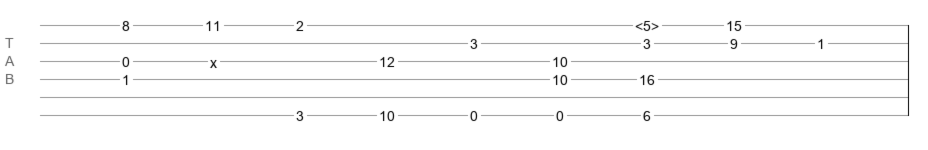0: (122, 54, 130, 64), (470, 108, 478, 118), (556, 108, 564, 118)
1: (122, 72, 130, 82), (817, 36, 825, 46)
10: (379, 108, 395, 118), (552, 72, 568, 82), (552, 54, 568, 64)
11: (205, 18, 221, 28)
12: (379, 54, 395, 64)
15: (726, 18, 742, 28)
16: (639, 72, 655, 82)
2: (296, 18, 304, 28)
3: (296, 108, 304, 118), (470, 36, 478, 46), (643, 36, 651, 46)
6: (643, 108, 651, 118)
8: (122, 18, 130, 28)
9: (730, 36, 738, 46)
harmonic: (635, 18, 659, 28)
x: (210, 55, 217, 63)
